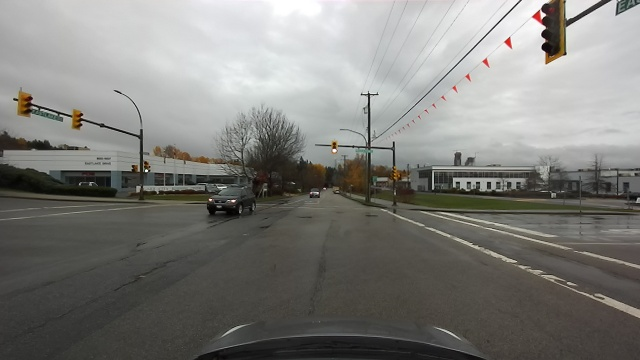car: (203, 185, 260, 219), (307, 187, 321, 199), (332, 186, 340, 195)
